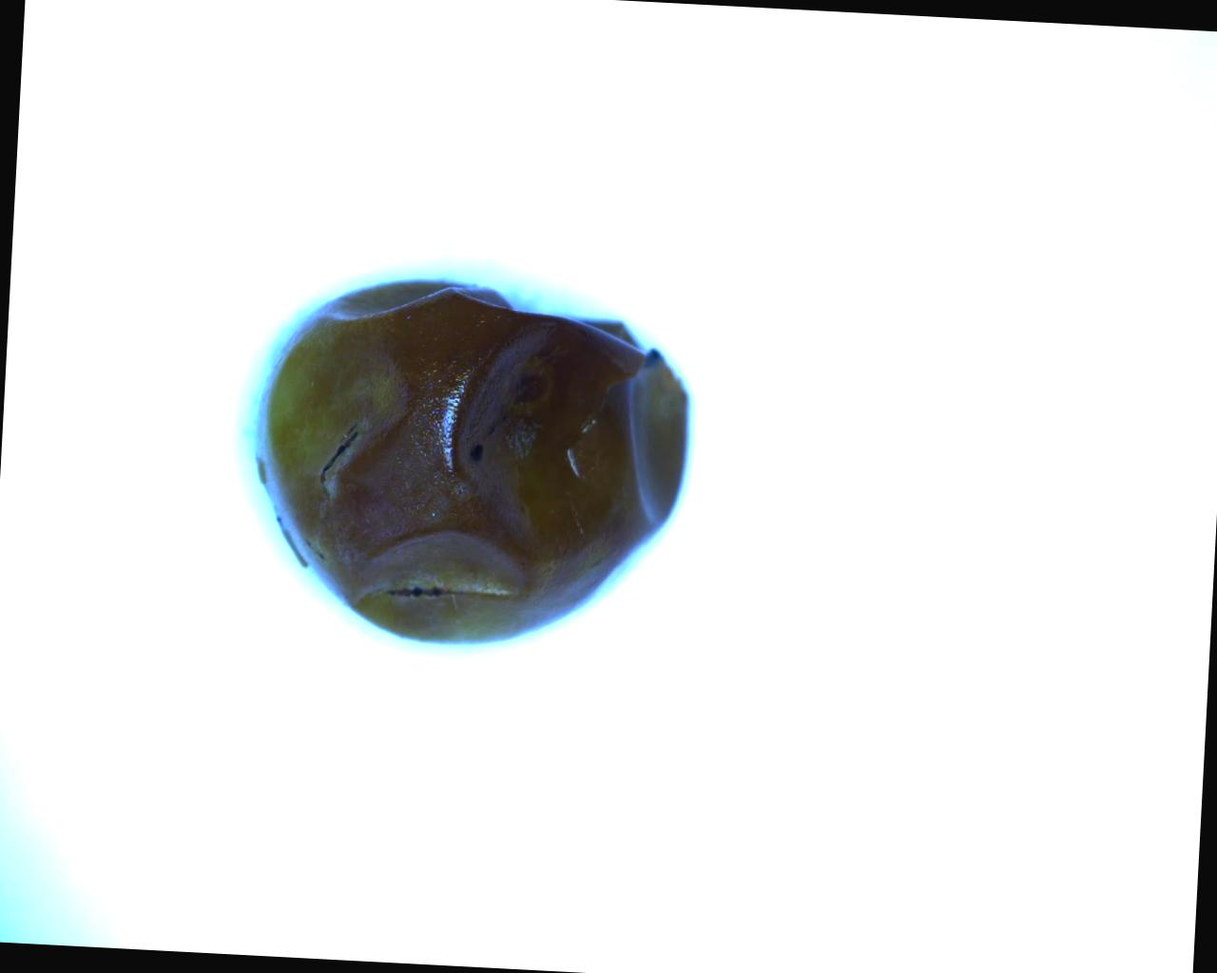Grape Rotten: (241, 267, 698, 657)
